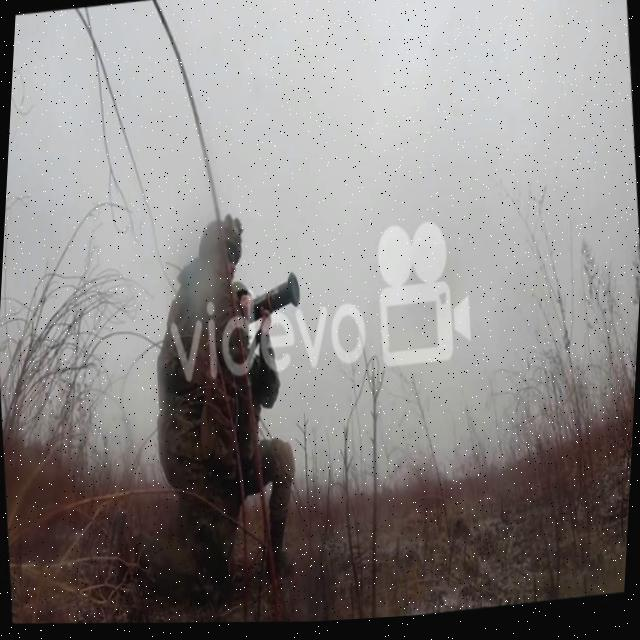rocket: (242, 273, 302, 335)
